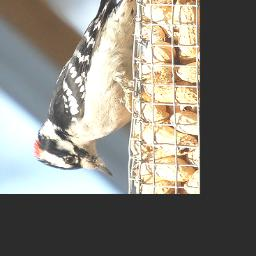Woodpecker: (32, 0, 143, 175)
